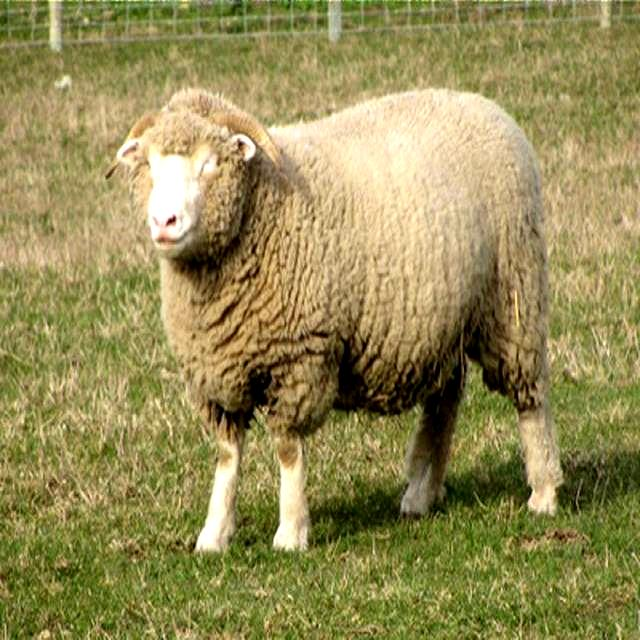sheep: (102, 86, 568, 558)
